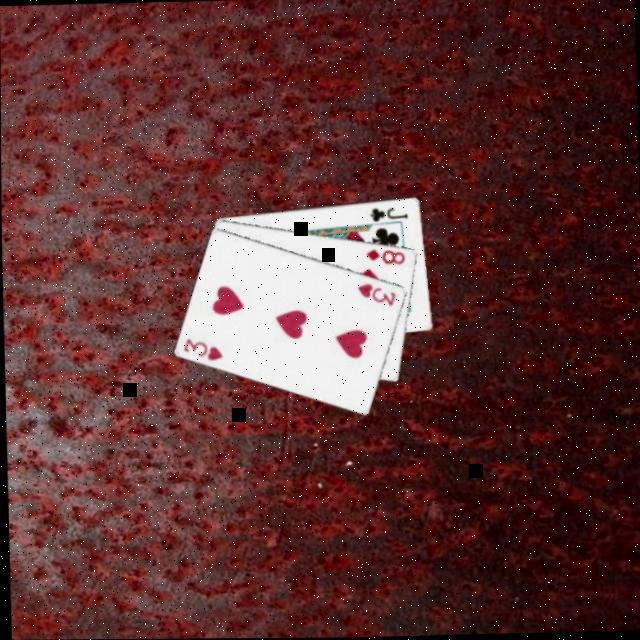3H: (352, 281, 396, 311), (178, 336, 222, 366)
8D: (360, 248, 404, 270)
JC: (364, 206, 408, 226)
